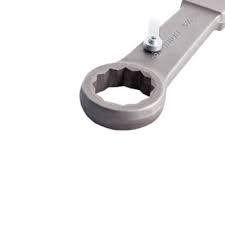wrench: (77, 0, 224, 131)
